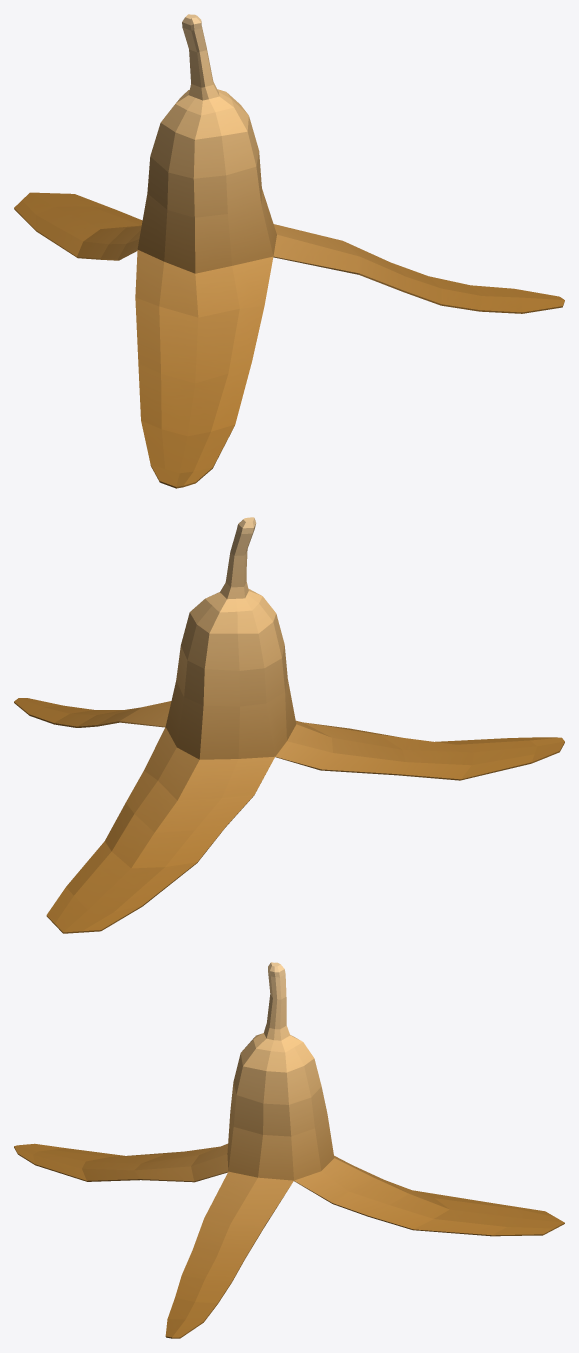
File: banan.fbx
3 renders of one model, top to bottom at view 1: azimuth 30°, elevation 25°; view 2: azimuth 150°, elevation 25°; view 3: azimuth 270°, elevation 25°, orthographic. The views are drawn at different scales.
Visible parts, largest first — view 1: Circle; view 2: Circle; view 3: Circle.
Boxes of the visible parts, x1,y1,x2,y2 form: Circle: (14, 14, 564, 488); Circle: (14, 517, 564, 933); Circle: (14, 962, 564, 1338).
Bounding box in the file's own units: 73.27 × 45.18 × 88.47.
